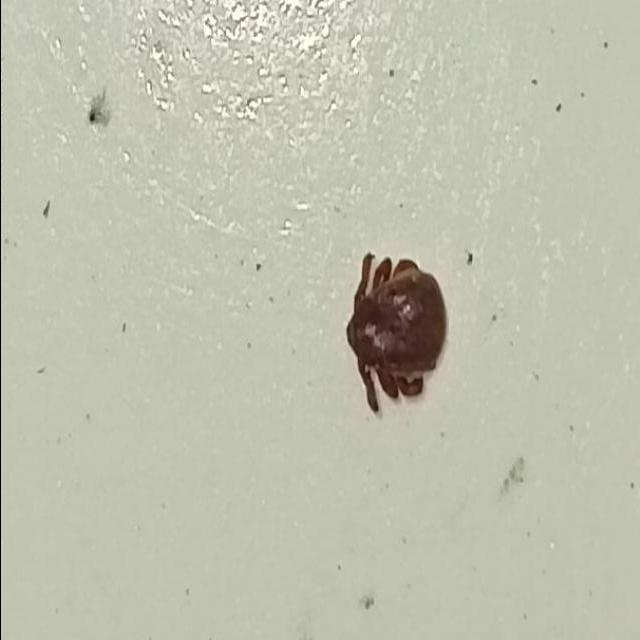Rhipicephalus Sanguineus-M: (343, 253, 446, 416)
